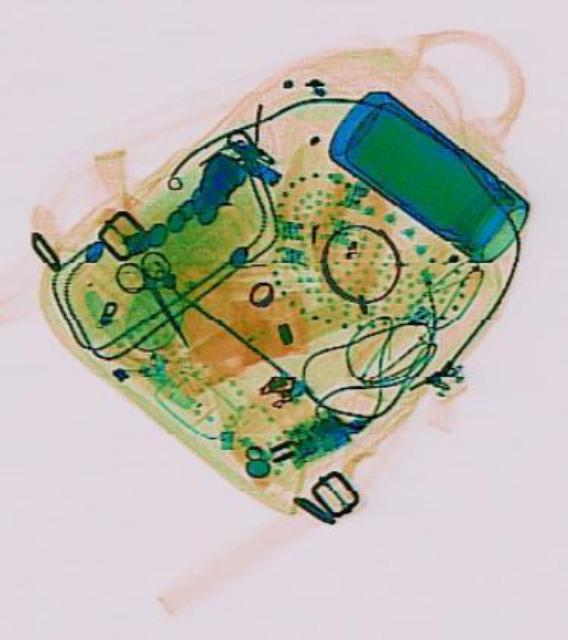Scissors: (107, 238, 210, 359)
